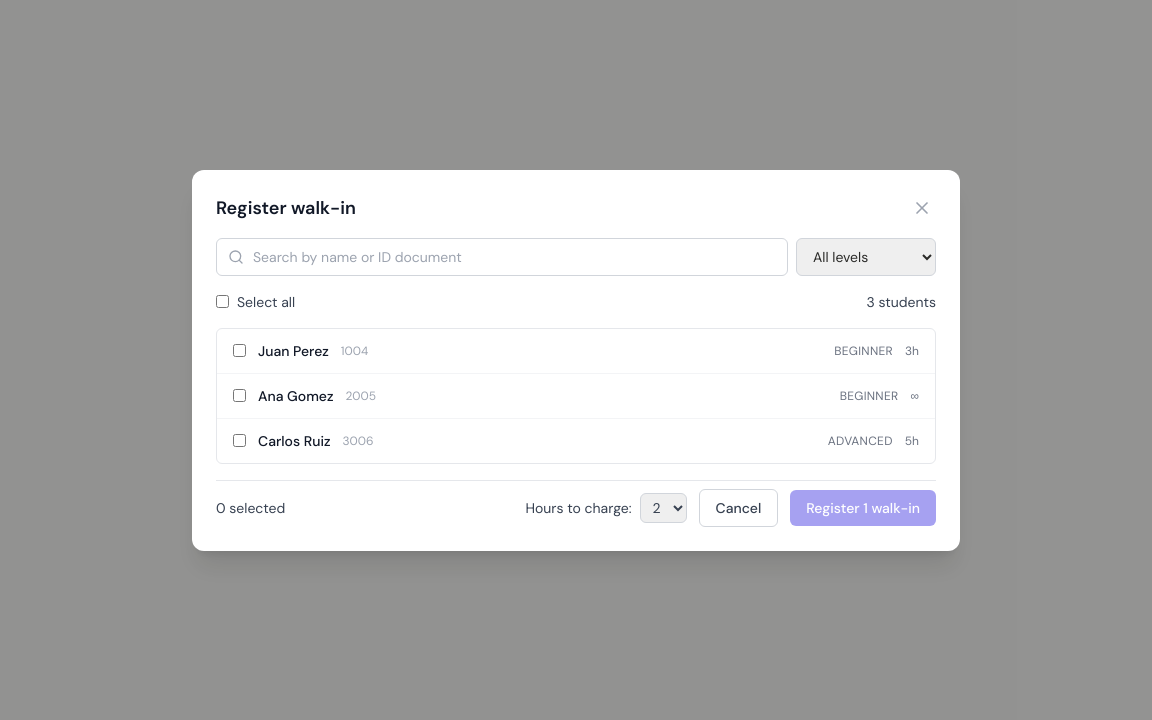
Scenario: WalkInModal › filters students by search query in memory
Type "Juan" into the field with placeholder "Search by name or ID document" at (502, 256), box [216,238,788,276]
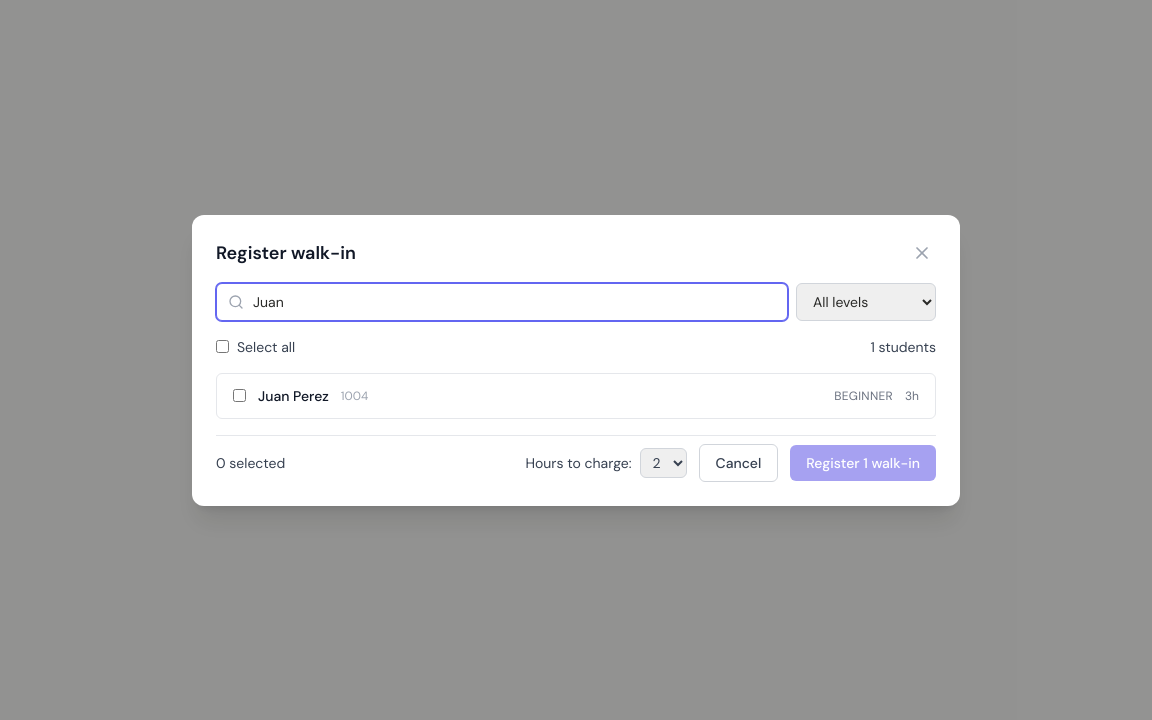
Expected: the text "Juan Perez" is shown, [258,386,329,406]
Result: the button "Ana Gomez" is gone
Result: the button "Carlos Ruiz" is gone
